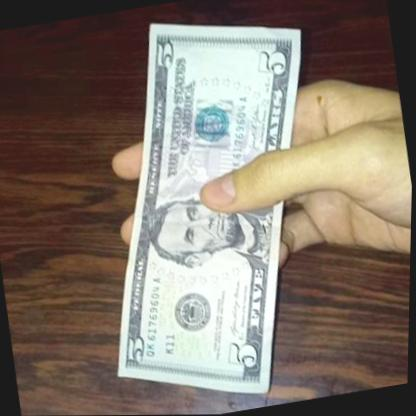dollar_front: (67, 0, 356, 416)
